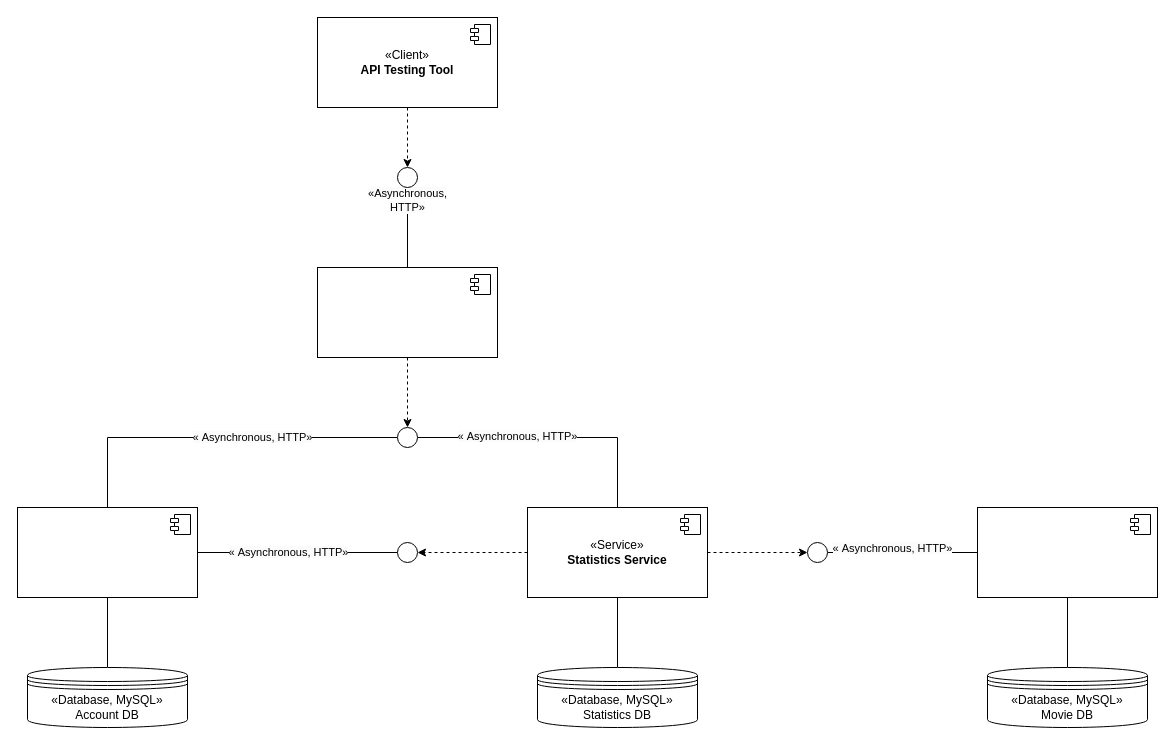
Some shapes in this 1175 by 745 pixel diagram are drawn without their labels. Here are the shapes that lost their labels. From the top down, the centre of each, then its label:
At (x=407, y=312): "«Service» Trailer Streaming Service".
At (x=107, y=552): "«Service» Account Service".
At (x=1067, y=552): "«Service» Movie Service".
